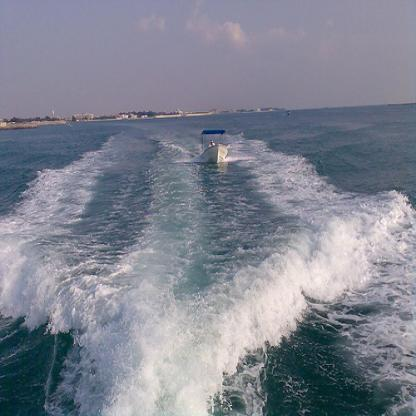boat: (201, 129, 230, 166)
